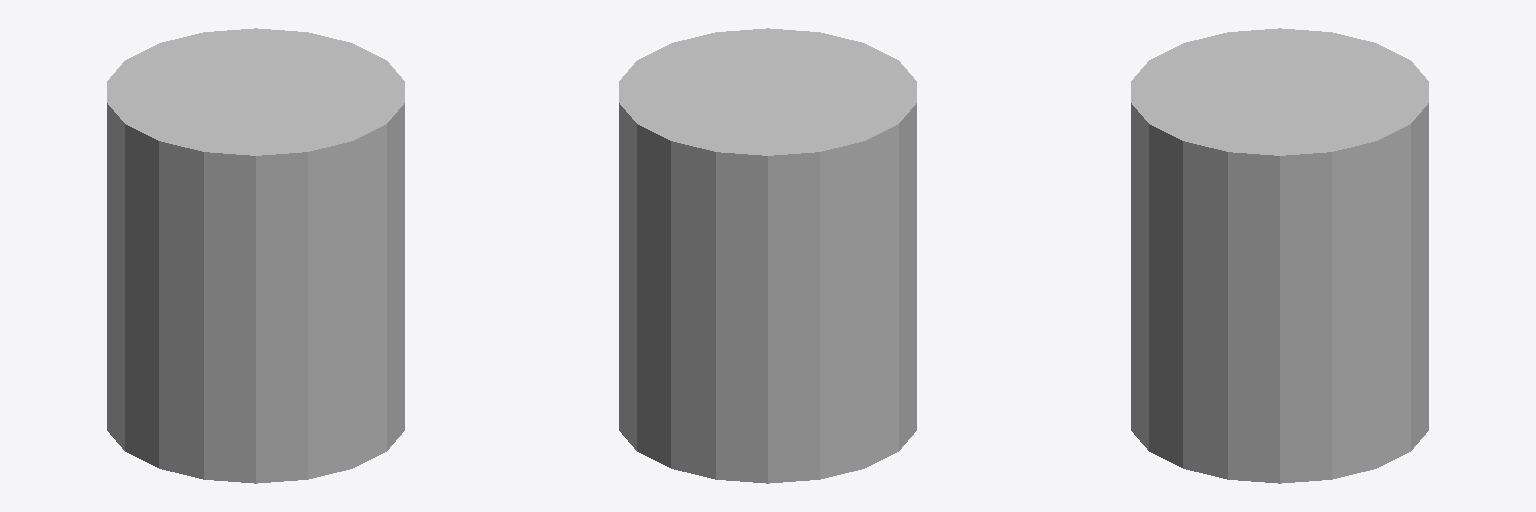
File: cilinder.obj
The picture shows the model from 3 angles: view 1: azimuth 30°, elevation 25°; view 2: azimuth 150°, elevation 25°; view 3: azimuth 270°, elevation 25°; orthographic projection.
Parts seen in each view (by area): view 1: Cylinder001; view 2: Cylinder001; view 3: Cylinder001.
Boxes of the visible parts, x1,y1,x2,y2 form: Cylinder001: [107, 28, 404, 483]; Cylinder001: [619, 28, 916, 483]; Cylinder001: [1131, 28, 1428, 483].
Size of the model in its own units: 0.9022 by 1.08 by 0.8884.